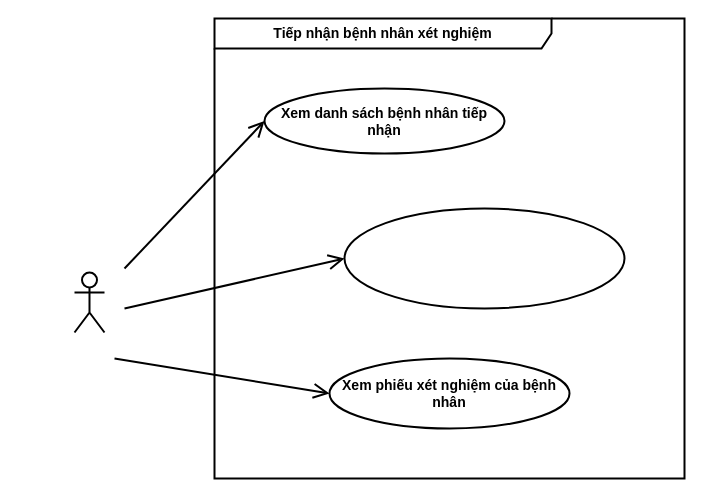
The diagram is 703 pixels wide and 496 high, and some of its shapes have lost their labels. The shapes that lost their labels are listed below. From the top down, each one's centre as x and y in pixels, then its label:
At (x=484, y=258): "Điền phiếu xét nghiệm sau khi thực hiện các xét nghiệm được yêu cầu".
At (x=89, y=302): "Nhân viên xét nghiệm".
